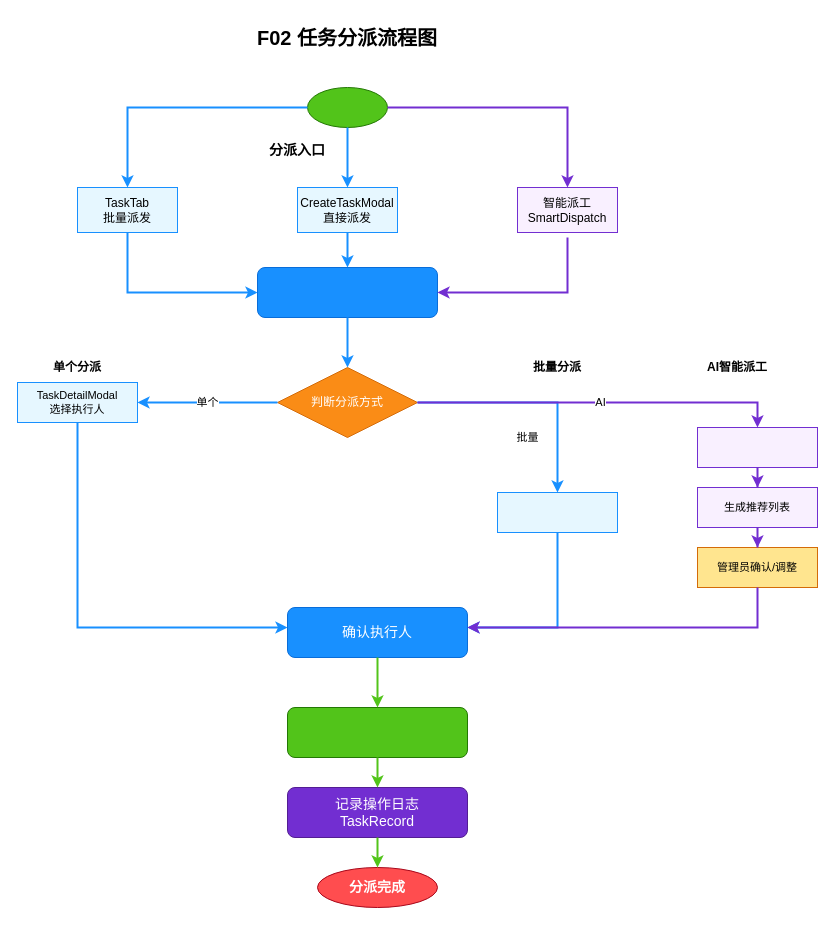
This 835x925 diagram has some shape labels left out. The shapes that lost their labels are listed below. From the top down, each one's box as (x1, y1, x2, y2) in pixels, then its label:
(306, 86, 388, 128): 开始
(256, 266, 438, 318): 选择任务 （勾选要分派的任务）
(696, 426, 818, 468): AI多因子评分 7维度权重计算
(496, 492, 618, 532): BatchDispatchModal 选择执行人
(286, 706, 468, 758): 更新任务状态 draft/rejected → pending
